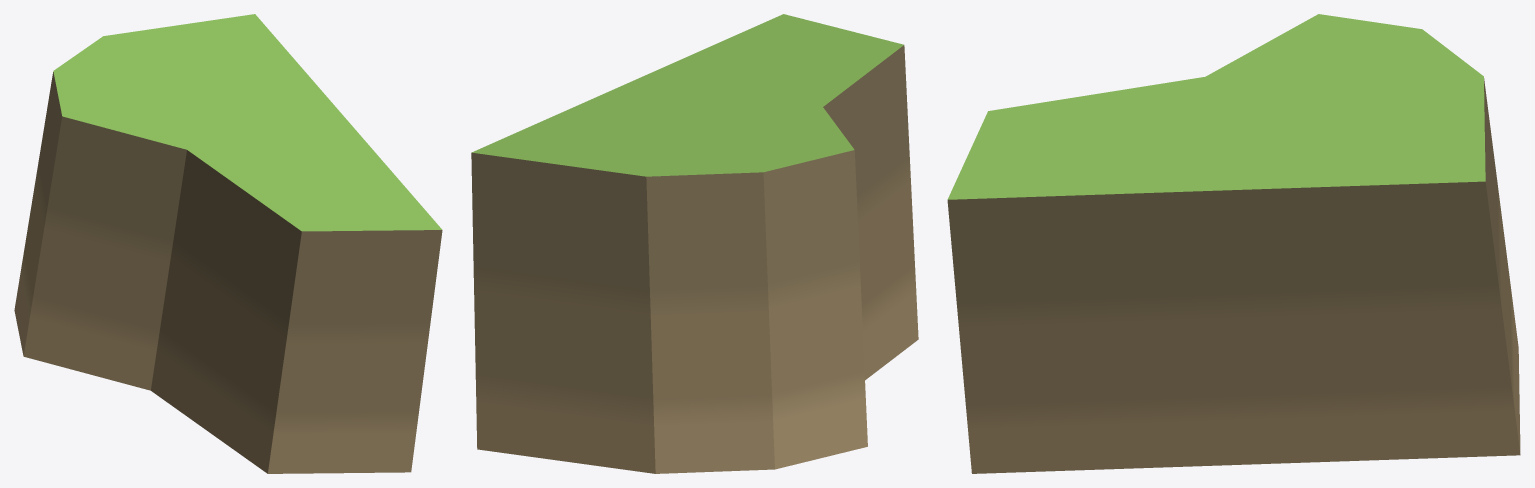
The model's file is 065b_Benin.glb.
3 renders of one model, left to right at view 1: azimuth 30°, elevation 25°; view 2: azimuth 150°, elevation 25°; view 3: azimuth 270°, elevation 25°, orthographic. The views are drawn at different scales.
Parts seen in each view (by area): view 1: part_0; view 2: part_0; view 3: part_0.
Part boxes in pixels (bbox=[...]): part_0: bbox=[14, 14, 442, 473]; part_0: bbox=[471, 14, 918, 473]; part_0: bbox=[947, 14, 1520, 473].
Size of the model in its own units: 0.2457 by 0.2436 by 0.3607.
1 material, 1 textured.
